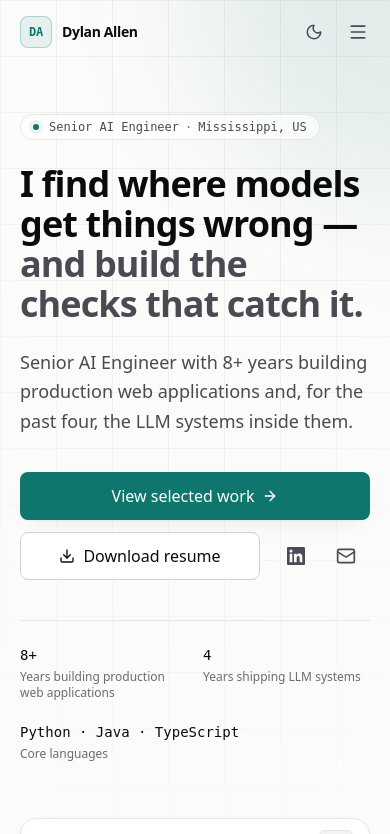
Test: mobile menu › closes when the button is pressed again
Click the button named "Open menu" at (358, 32), box [338,12,378,52]
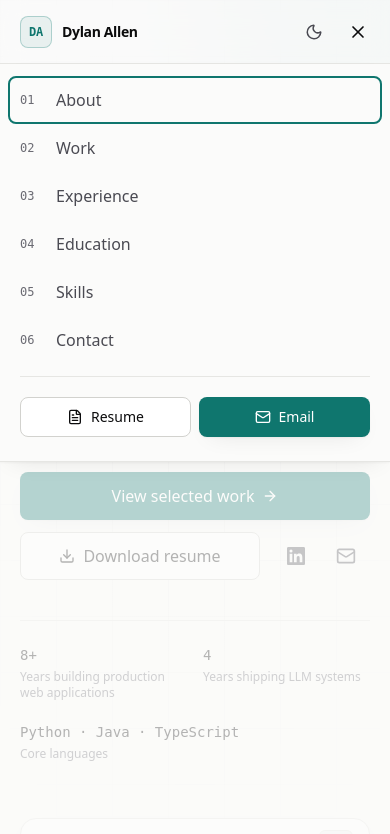
Click the button named "Close menu" at (358, 32), box [338,12,378,52]
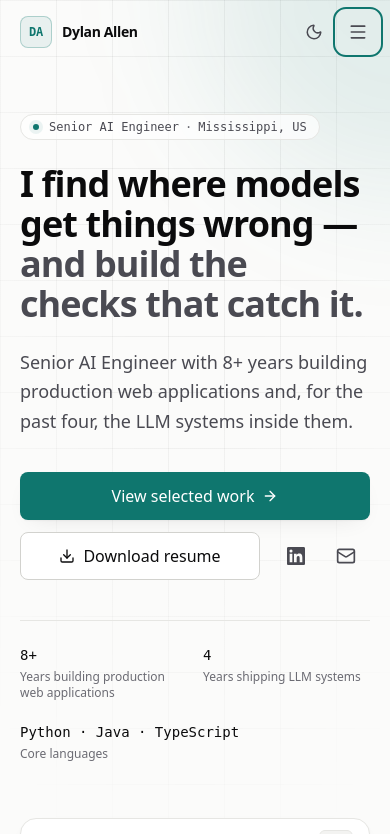
Result: the button named "Open menu" is collapsed at [338,12,378,52]
Result: the navigation bar "Mobile" is gone
